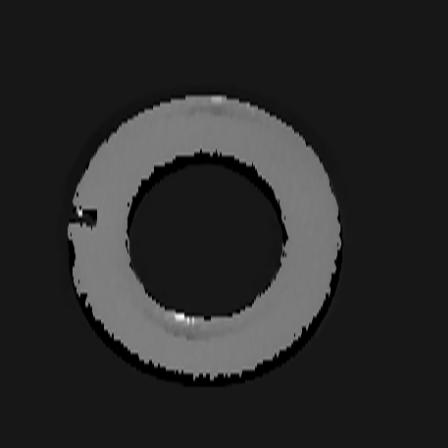defect: (67, 207, 98, 225)
